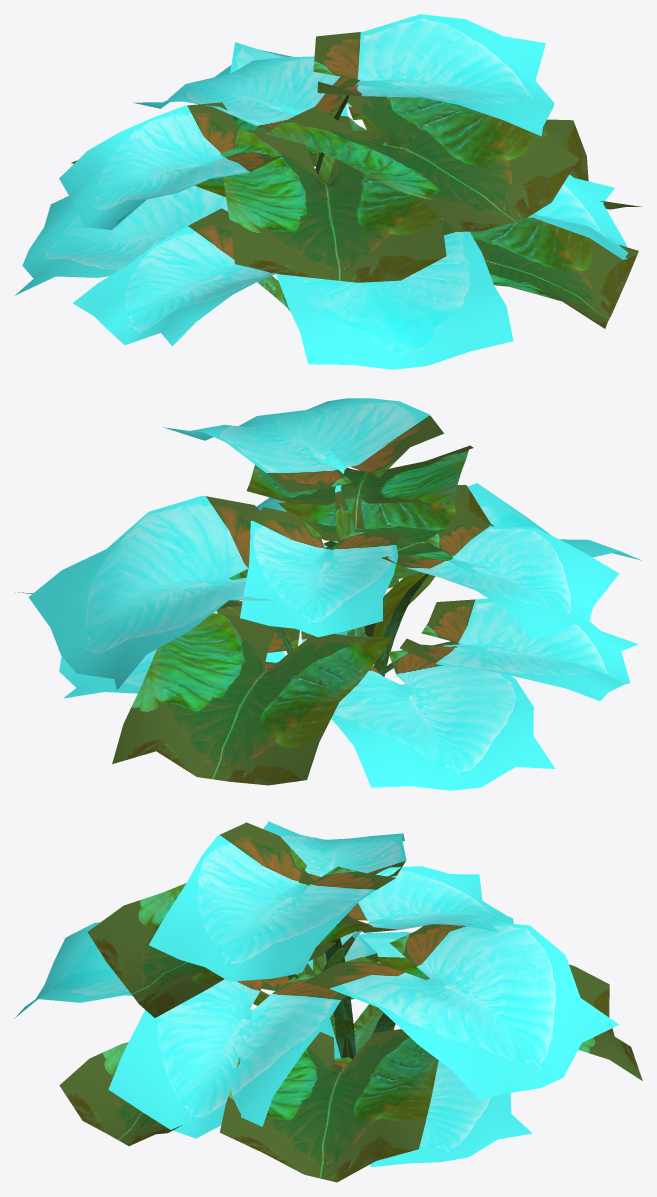
File: plant_013.FBX
3 renders of one model, top to bottom at view 1: azimuth 30°, elevation 25°; view 2: azimuth 150°, elevation 25°; view 3: azimuth 270°, elevation 25°, orthographic. The views are drawn at different scales.
Parts seen in each view (by area): view 1: plant_013; view 2: plant_013; view 3: plant_013.
Boxes of the visible parts, x1,y1,x2,y2 form: plant_013: (14,14,641,369); plant_013: (15,398,641,790); plant_013: (14,820,642,1182).
Size of the model in its own units: 15746 by 7100 by 16457.
